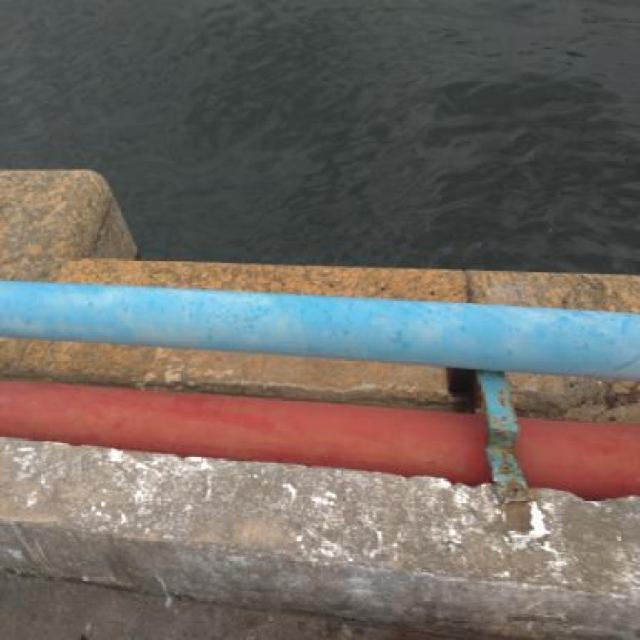gas: (3, 379, 640, 492), (3, 283, 636, 374)
